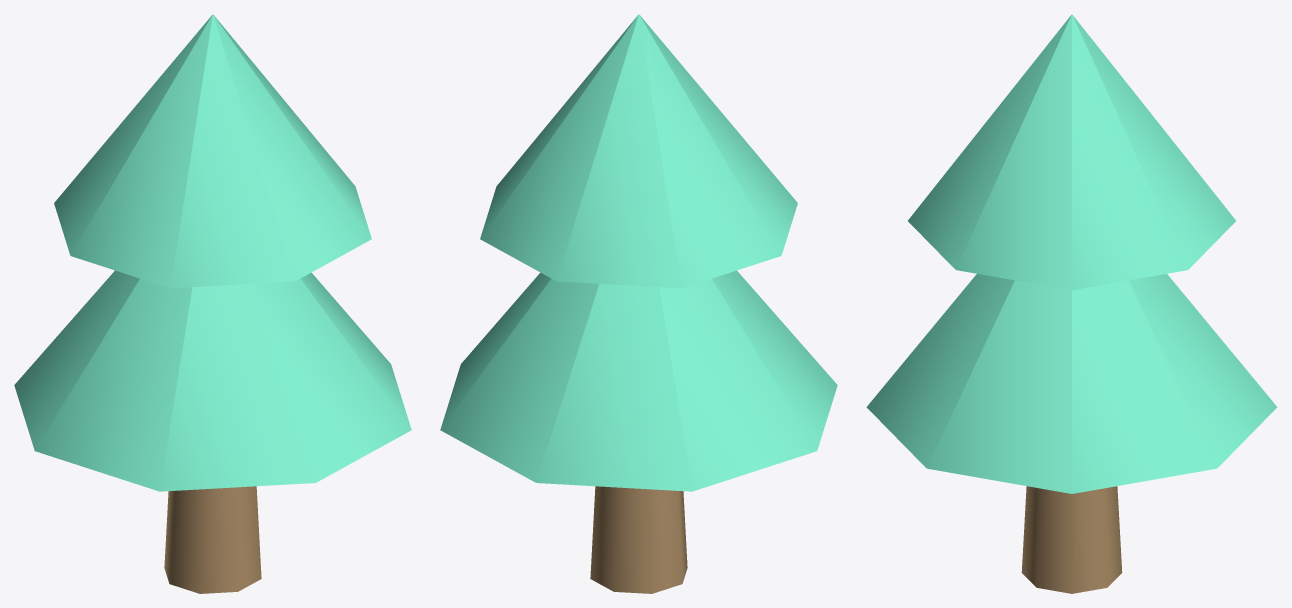
The model's file is lowpoly_tree.glb.
The picture shows the model from 3 angles, left to right: view 1: azimuth 30°, elevation 25°; view 2: azimuth 150°, elevation 25°; view 3: azimuth 270°, elevation 25°; orthographic projection.
Bounding box in the file's own units: 1.8 × 2.7 × 1.8.
